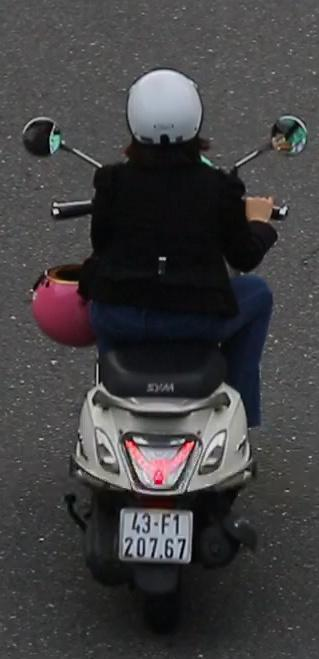LP: (117, 505, 198, 572)
helmet: (121, 67, 213, 177)
